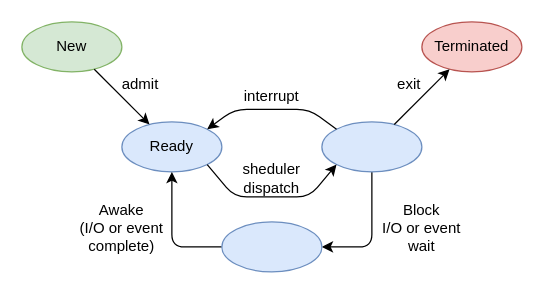
Image size: 544x294. Some labels were removed from this diagram. Here are the shapes that lost their labels. From the top down, the centre of each, then its label:
the point at 371,146: Running
the point at 271,246: Waiting
